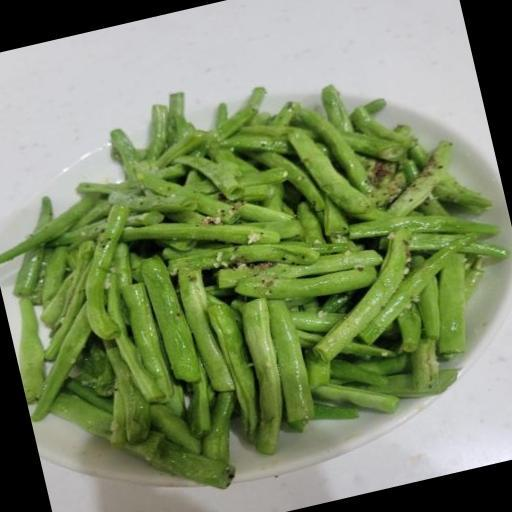buncis_rebus: (0, 19, 512, 512)
